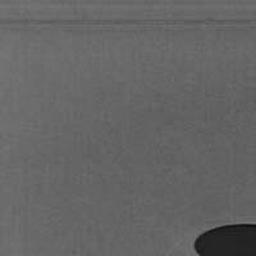Punching: (195, 223, 256, 256)
